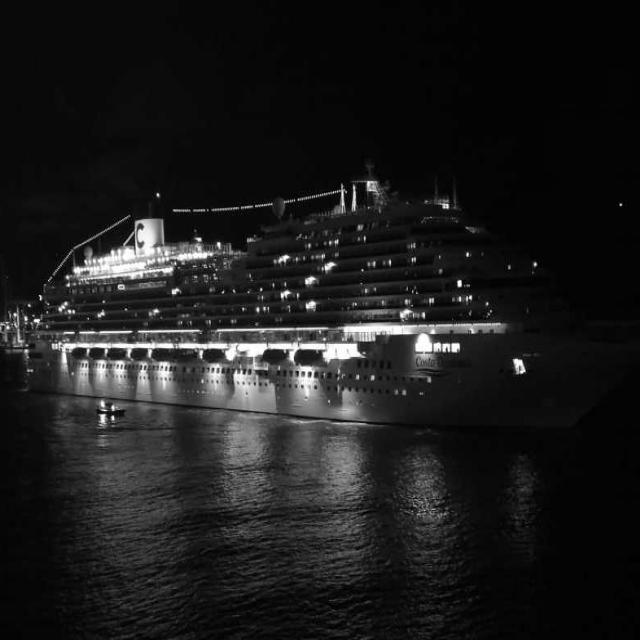cruises: (27, 154, 546, 438)
